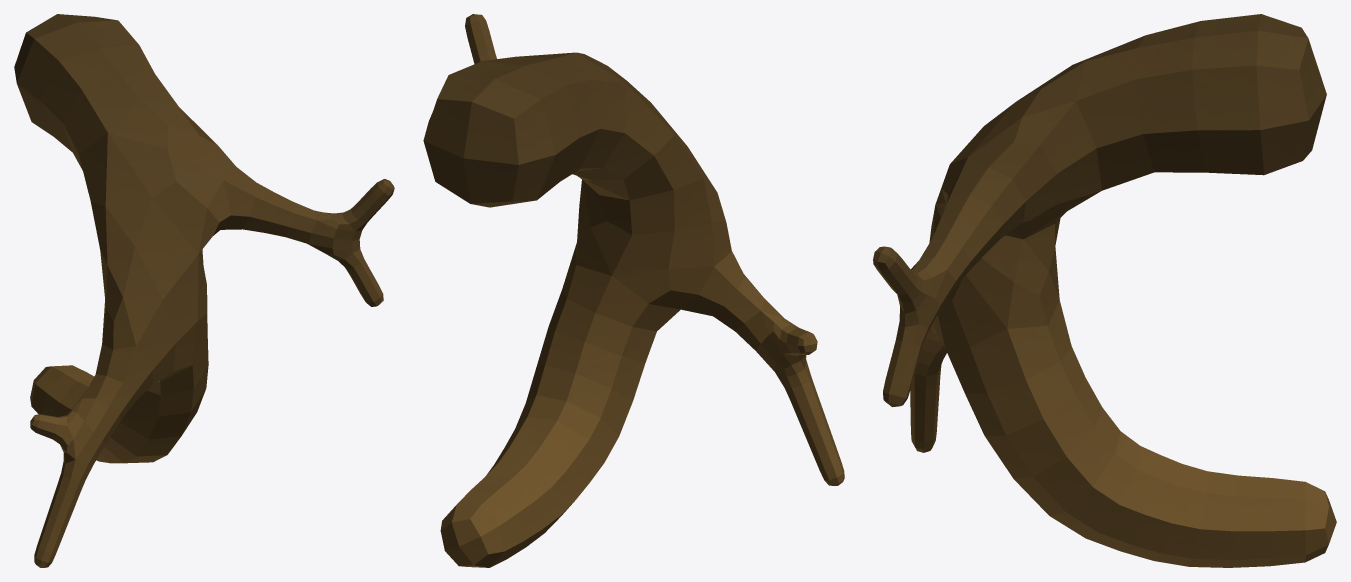
Rendered from roots_platform.glb.
3 renders of one model, left to right at view 1: azimuth 30°, elevation 25°; view 2: azimuth 150°, elevation 25°; view 3: azimuth 270°, elevation 25°, orthographic. The views are drawn at different scales.
Visible parts, largest first — view 1: Cube.028; view 2: Cube.028; view 3: Cube.028.
Part boxes in pixels (box(x1,y1,x2,y2)): Cube.028: box(14, 14, 394, 567); Cube.028: box(423, 14, 844, 567); Cube.028: box(873, 14, 1336, 567).
Bounding box in the file's own units: 1.18 × 1.37 × 1.08.
Materials: 1 (1 with a texture image).
